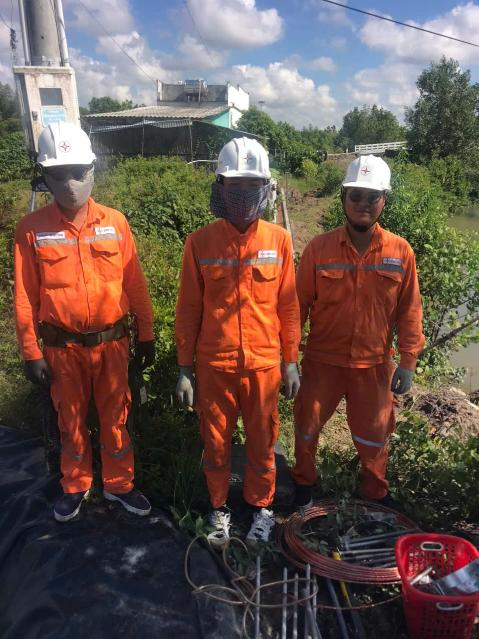gloves: (171, 365, 208, 416), (279, 364, 309, 402), (28, 357, 55, 397), (392, 360, 412, 400)
harness: (23, 305, 144, 359)
helmet: (23, 115, 100, 177), (202, 129, 280, 190), (339, 148, 401, 205)
shoes: (99, 480, 159, 523), (43, 481, 100, 523), (196, 508, 237, 561), (239, 498, 271, 558), (359, 485, 397, 527), (291, 476, 318, 518)
